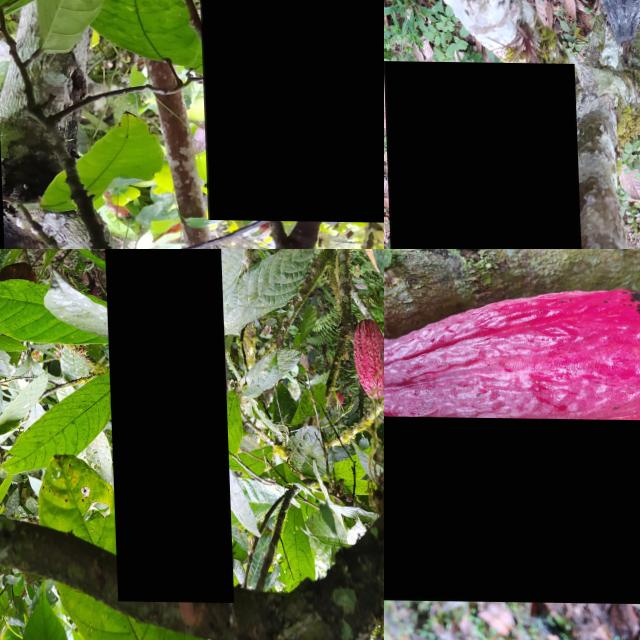Fitoftora: (99, 249, 229, 602), (192, 0, 384, 221), (600, 0, 640, 42)
Monilia: (384, 284, 640, 457)
Sana: (384, 414, 640, 603), (384, 60, 583, 249)
